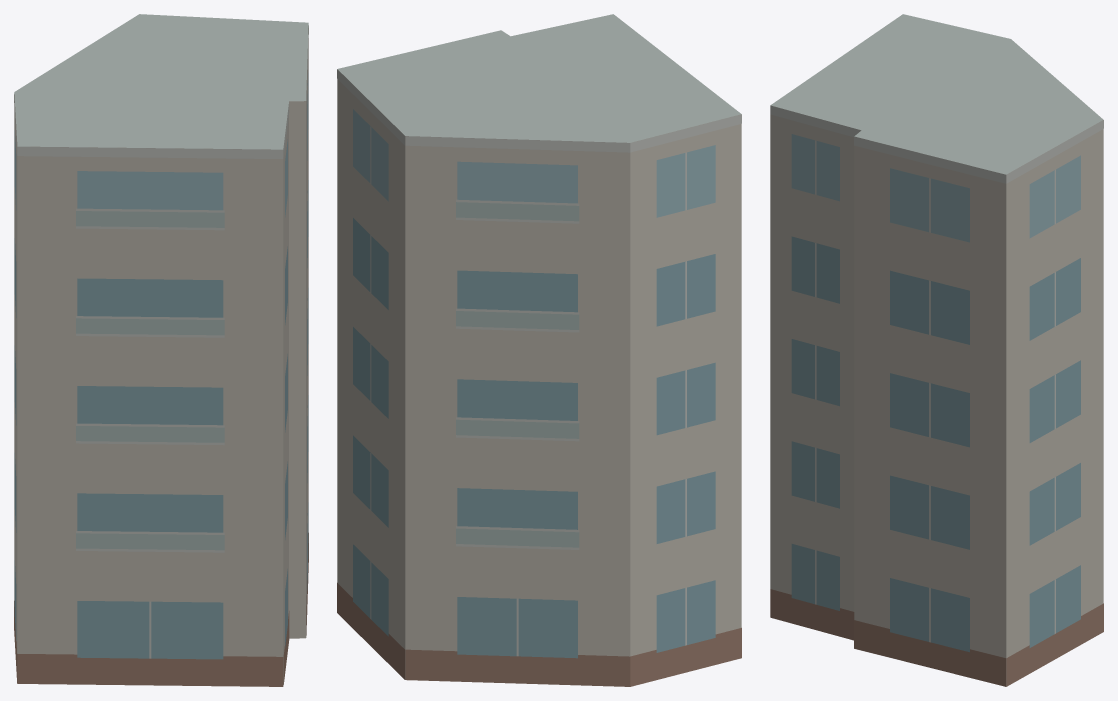
Rendered from survey-upis-32461649.glb.
3 views of the same model, side by side, from view 1: azimuth 30°, elevation 25°; view 2: azimuth 150°, elevation 25°; view 3: azimuth 270°, elevation 25° (orthographic). The views are drawn at different scales.
Parts seen in each view (by area): view 1: survey-upis-32461649.tmp; view 2: survey-upis-32461649.tmp; view 3: survey-upis-32461649.tmp.
Part boxes in pixels (x1,y1,x2,y2): survey-upis-32461649.tmp: [14, 14, 308, 686]; survey-upis-32461649.tmp: [337, 14, 741, 686]; survey-upis-32461649.tmp: [770, 14, 1103, 686].
Size of the model in its own units: 9.23 by 13.7 by 8.09.
